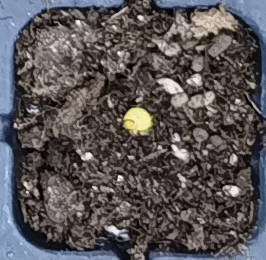pepper seed: (43, 39, 199, 171)
